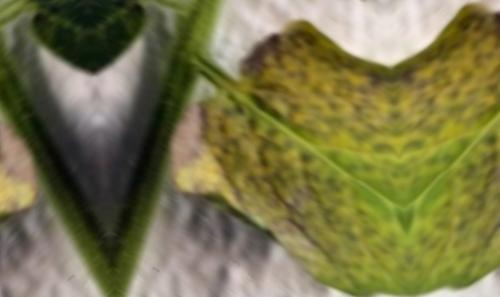Tomato leaf bacterial spot: (169, 14, 411, 297)
